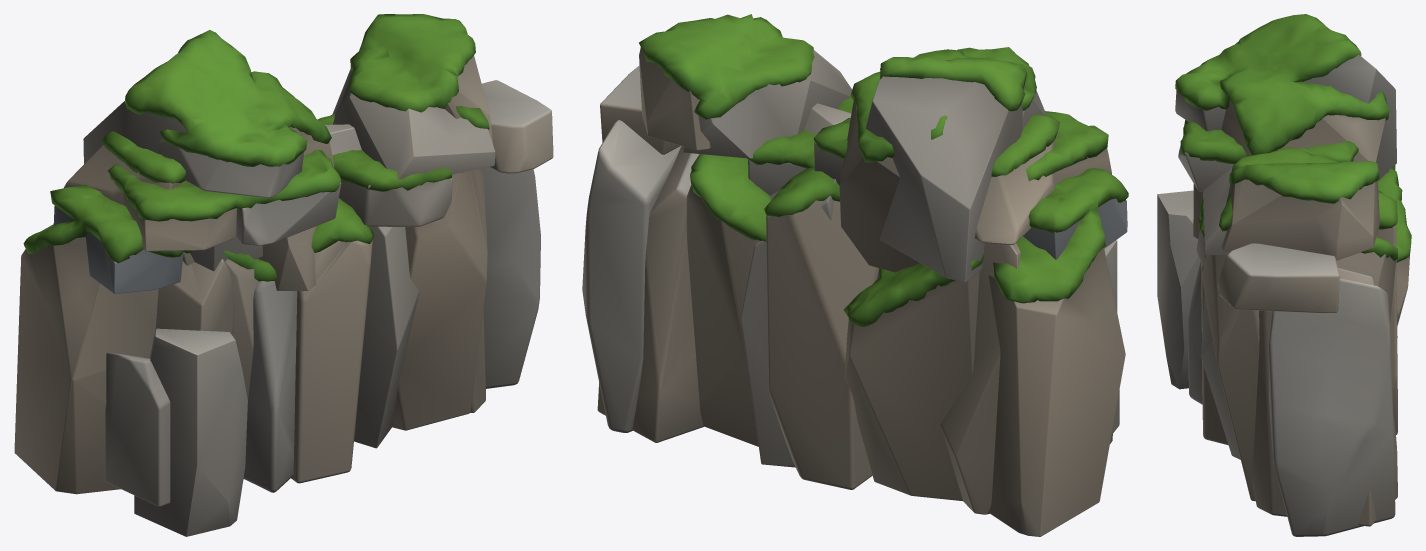
The model's file is glade_bluff_rim.glb.
3 renders of one model, left to right at view 1: azimuth 30°, elevation 25°; view 2: azimuth 150°, elevation 25°; view 3: azimuth 270°, elevation 25°, orthographic. The views are drawn at different scales.
Parts seen in each view (by area): view 1: glade_bluff_rim, moss; view 2: glade_bluff_rim, moss; view 3: glade_bluff_rim, moss.
Boxes of the visible parts, <box> form: glade_bluff_rim: <box>14,56,553,536</box>; moss: <box>23,14,489,281</box>; glade_bluff_rim: <box>582,47,1127,536</box>; moss: <box>639,14,1128,326</box>; glade_bluff_rim: <box>1157,54,1409,536</box>; moss: <box>1175,14,1411,262</box>.
Bounding box in the file's own units: 34.55 × 28.34 × 17.36.
